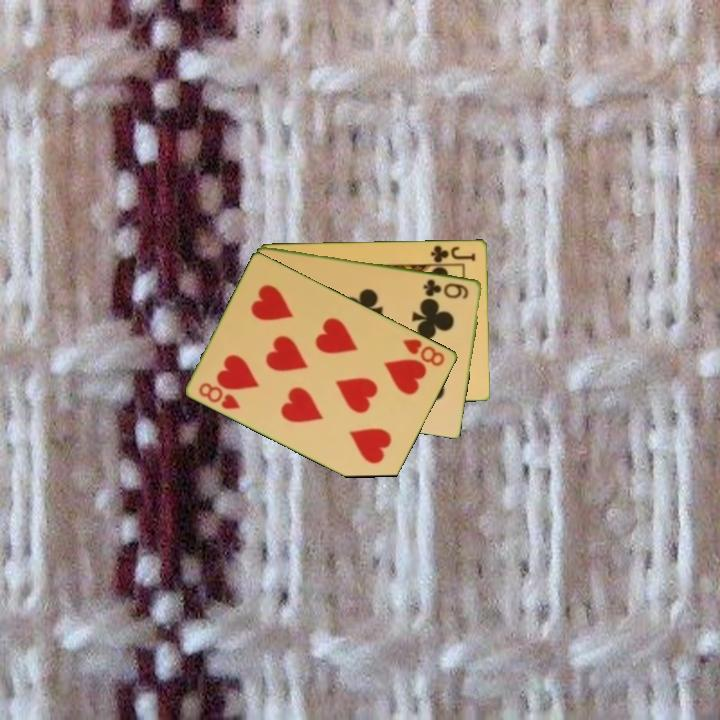6c: (420, 275, 471, 302)
8h: (399, 335, 448, 369), (195, 379, 243, 412)
Jc: (428, 241, 479, 265)
